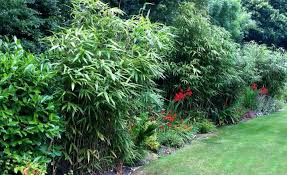bamboo: (37, 3, 158, 162), (166, 5, 235, 118), (240, 43, 287, 104)
